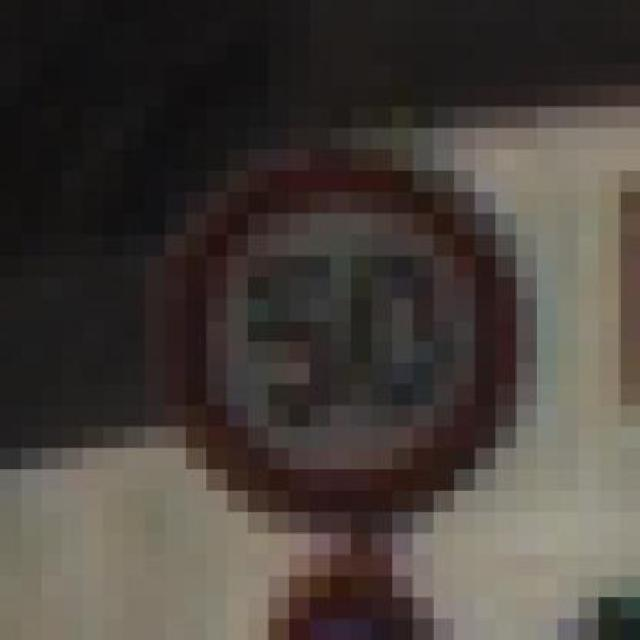50 mph speed limit: (114, 97, 548, 566)
